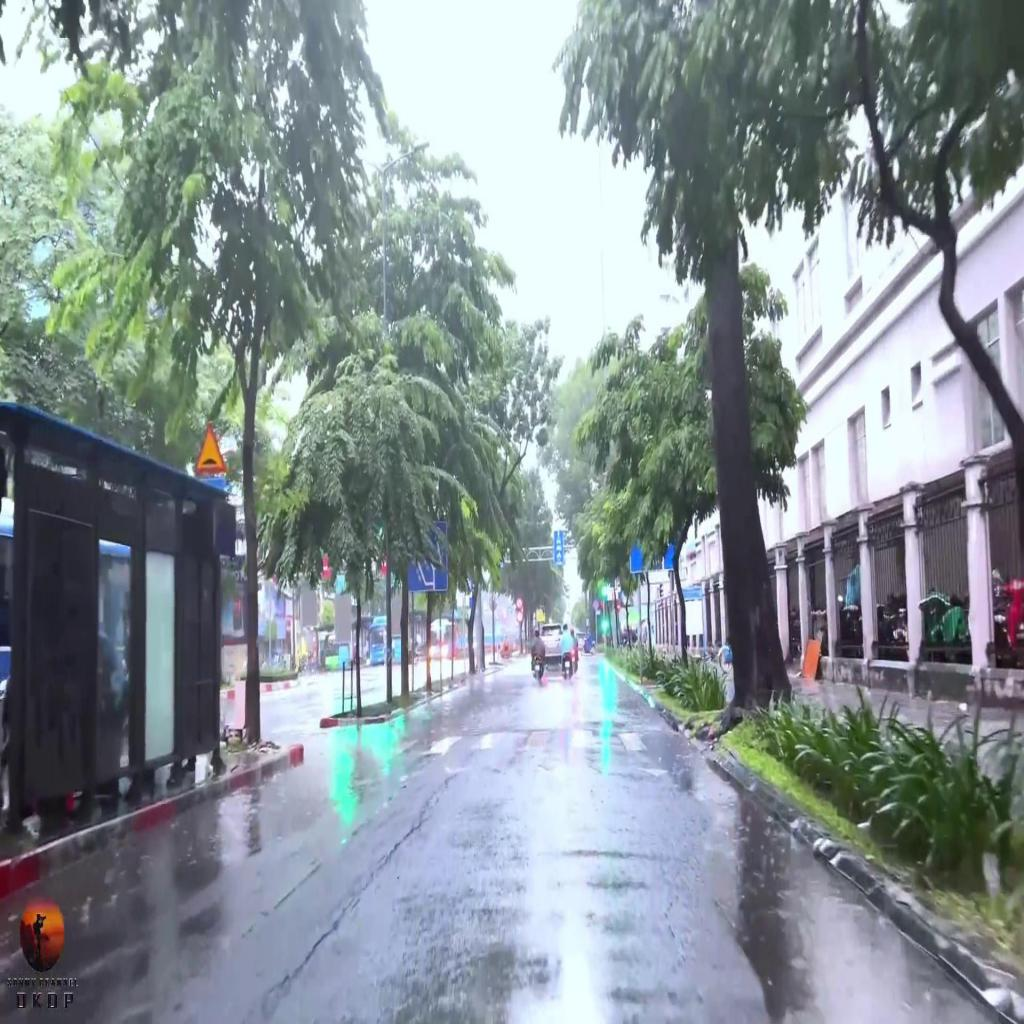duong_co_song_map_mo_nhan_tao: (195, 422, 228, 472)
